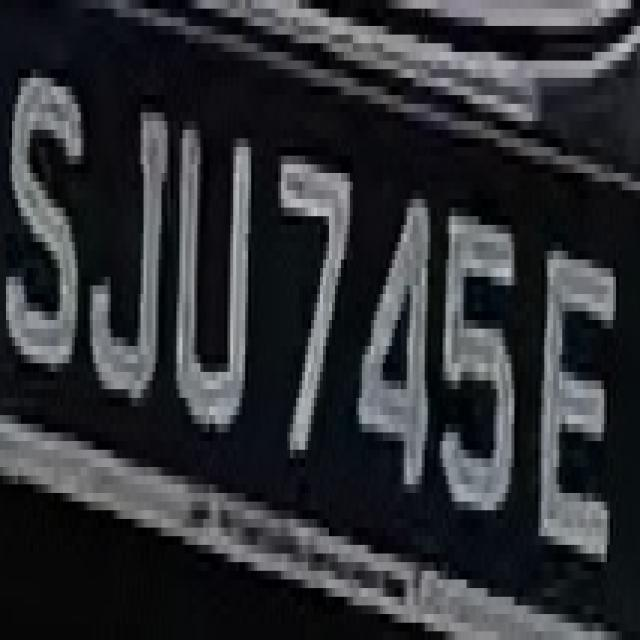4: (359, 147, 442, 510)
5: (440, 182, 526, 536)
7: (272, 121, 353, 493)
E: (541, 199, 622, 588)
J: (92, 95, 168, 407)
S: (6, 34, 84, 407)
U: (174, 86, 254, 458)
